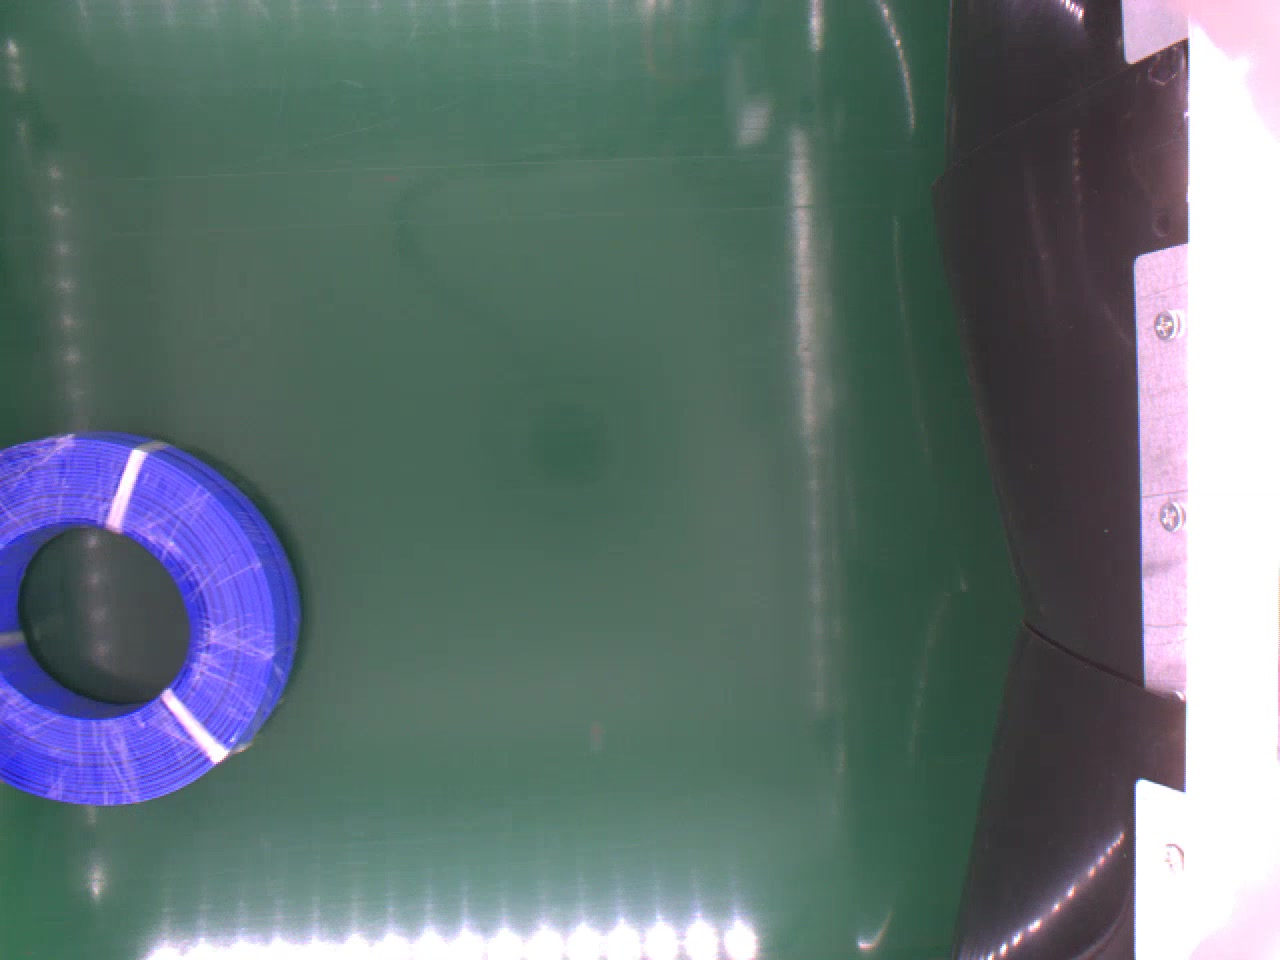blue: (0, 432, 300, 808)
